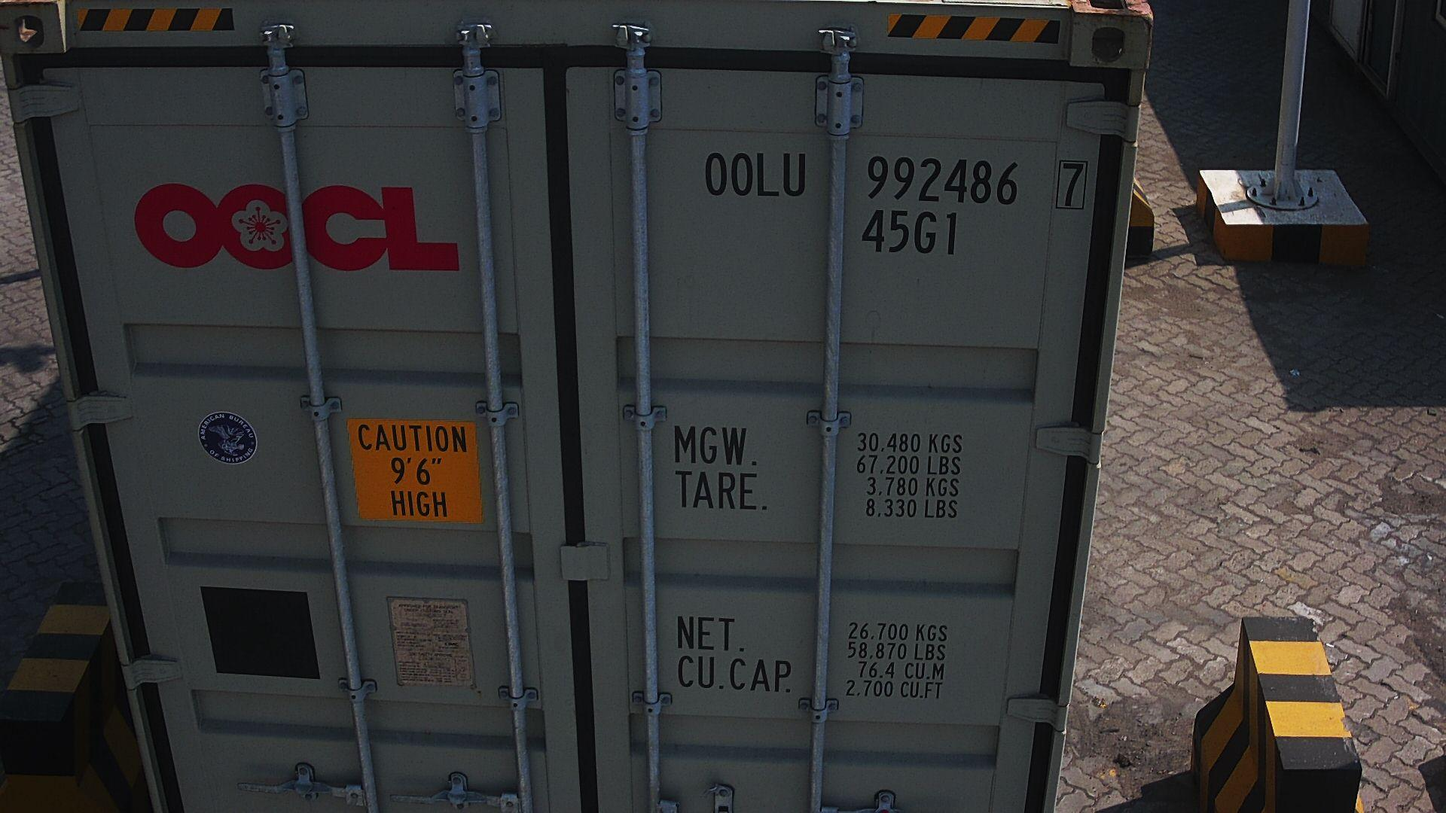container-numbers: (700, 147, 1094, 213), (857, 206, 965, 262)
